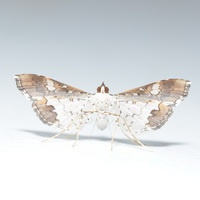insect: (15, 74, 190, 150)
